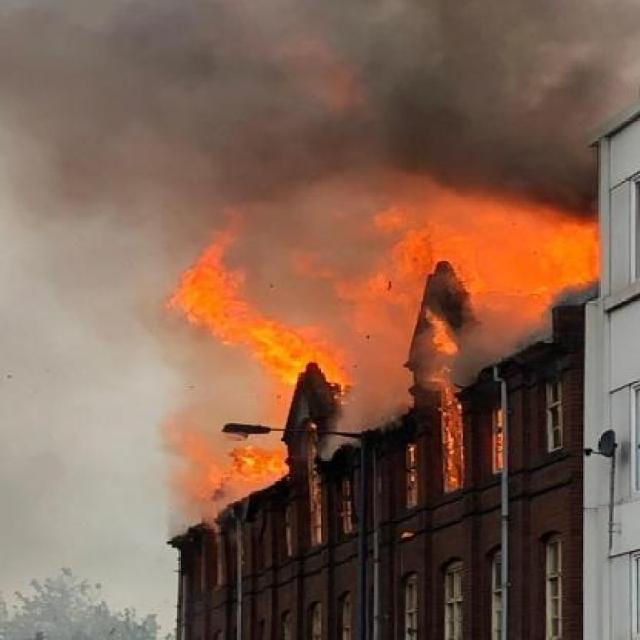Fire: (314, 158, 590, 372), (169, 213, 356, 484), (376, 370, 514, 510)
Smoke: (0, 0, 640, 223), (27, 223, 233, 494)
